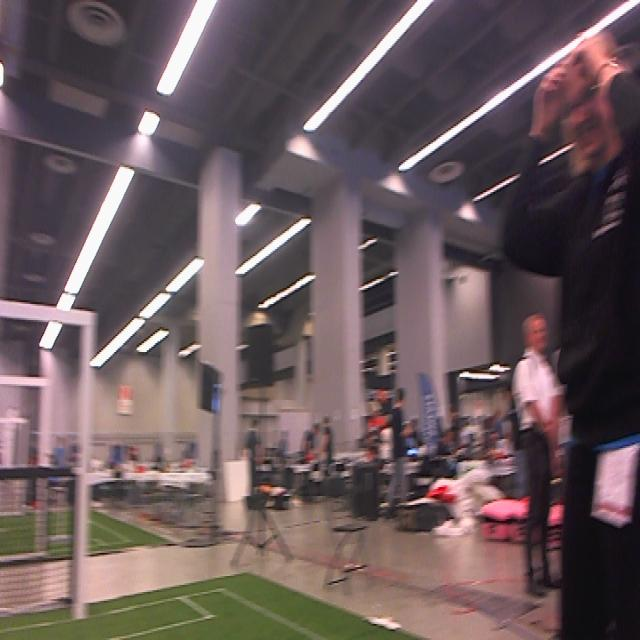goalpost: (72, 307, 95, 618)
